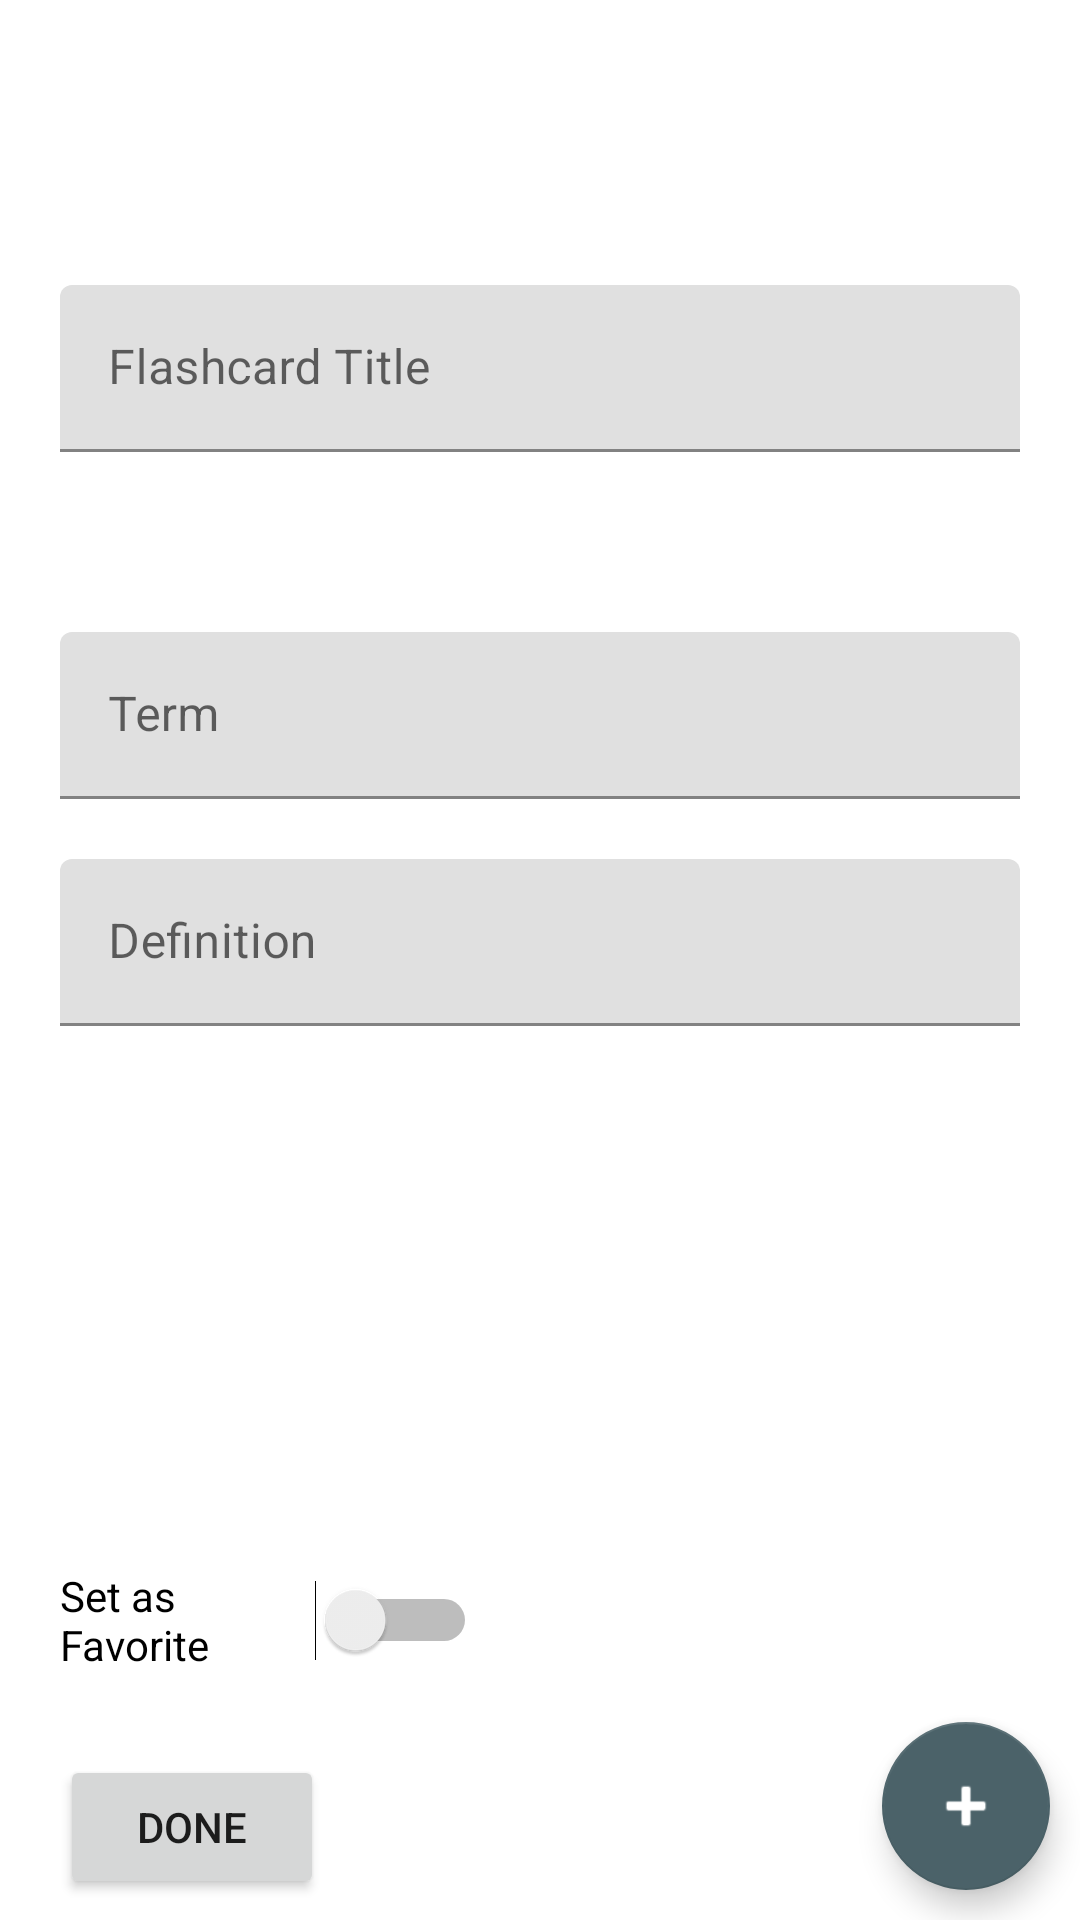

Named icons in this screenshot (1080w x 1920h) and their centers, (x,y):
Add a flashcard: (966,1806)
